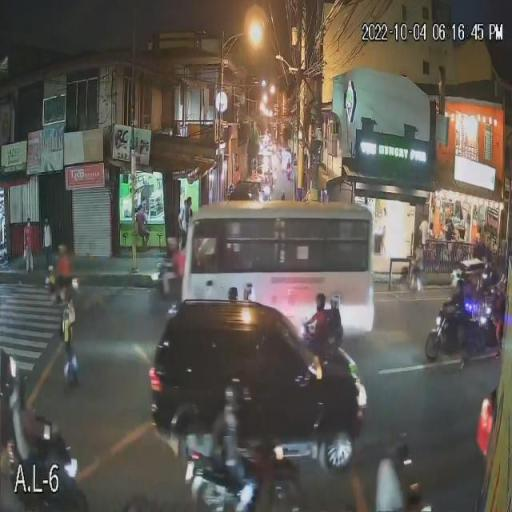helmet: (223, 383, 238, 401), (441, 280, 455, 294), (329, 292, 341, 307), (481, 274, 493, 288), (56, 244, 70, 255)
motorcycle: (180, 428, 303, 511), (2, 425, 92, 511), (424, 293, 478, 364), (462, 282, 500, 356), (42, 265, 81, 313), (154, 256, 184, 302)
rider: (198, 384, 254, 512), (8, 381, 62, 484), (437, 270, 467, 330), (302, 292, 334, 346), (466, 263, 490, 331), (160, 236, 186, 298), (51, 245, 75, 304)
